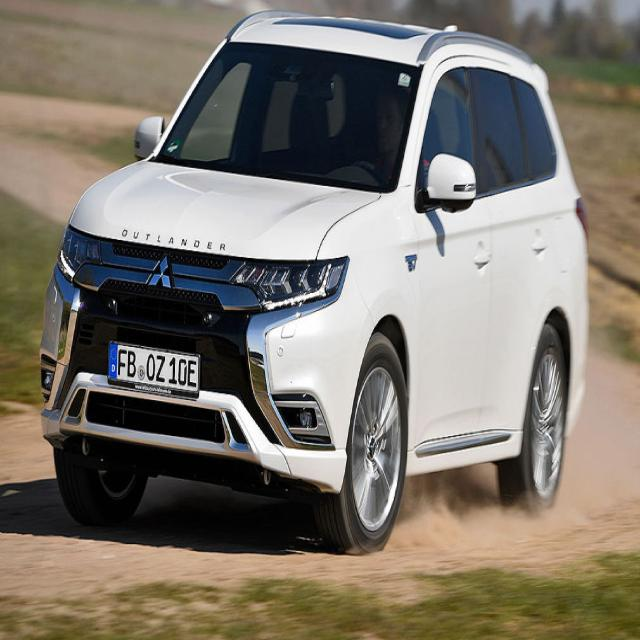light_vehicle: (39, 9, 590, 554)
